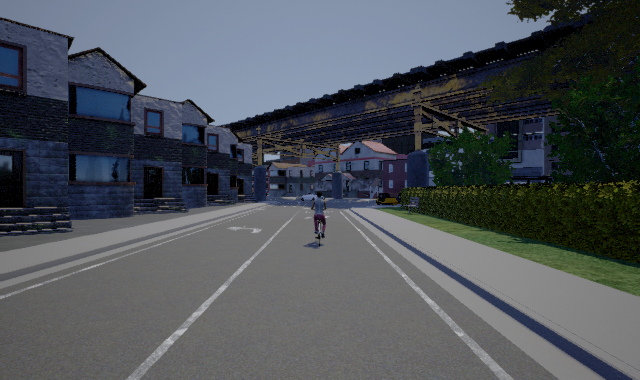bike: (308, 191, 330, 249)
vehicle: (376, 193, 401, 206)
